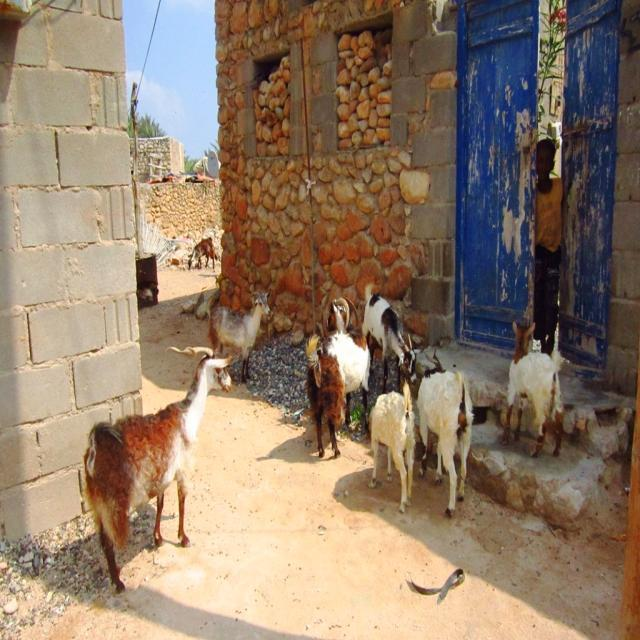Goat: (83, 345, 233, 592), (417, 349, 475, 517), (502, 319, 565, 457), (207, 288, 272, 384), (361, 282, 416, 393), (305, 324, 347, 458), (187, 236, 217, 270)
